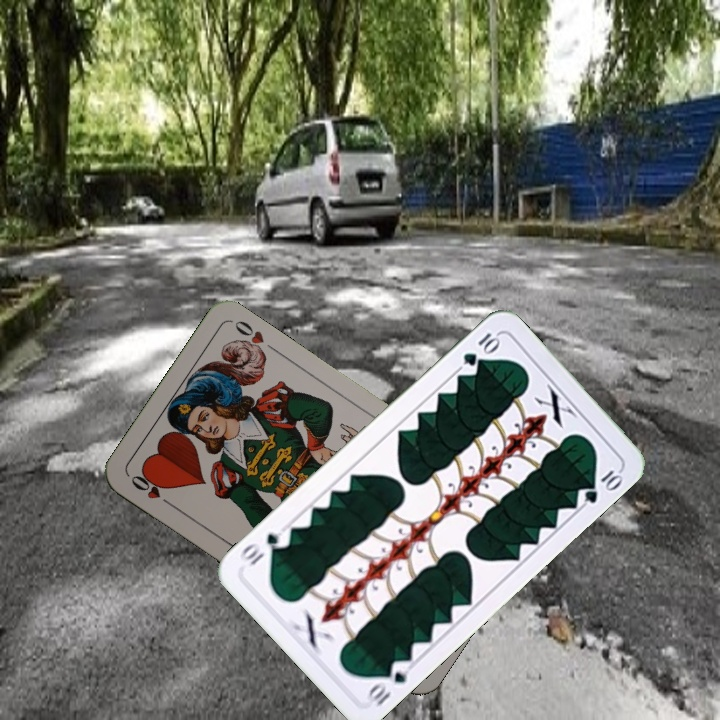G10: (364, 655, 414, 709), (458, 328, 503, 369)
HO: (126, 471, 178, 511)
